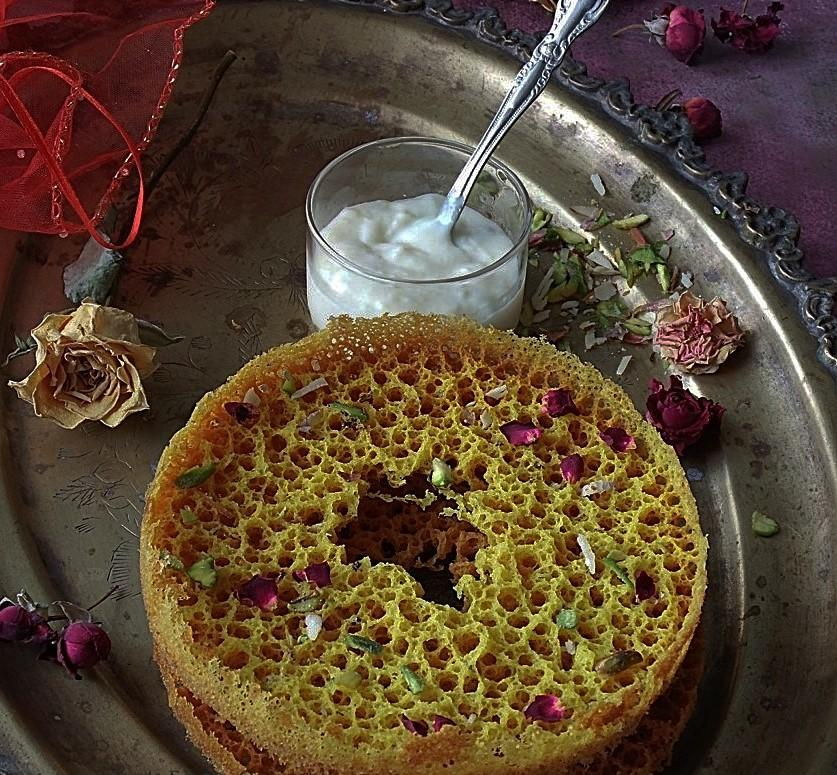Ghevar: (137, 310, 708, 775)
